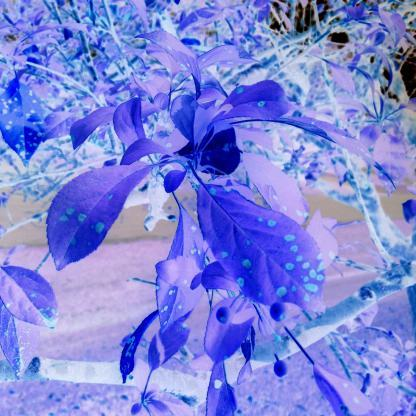Apple Scab Leaf: (192, 175, 340, 314), (42, 148, 154, 286), (275, 107, 401, 196), (208, 76, 308, 141), (2, 262, 78, 336), (118, 296, 168, 392), (1, 74, 52, 166), (308, 355, 378, 416), (0, 311, 49, 386), (50, 166, 54, 170)
